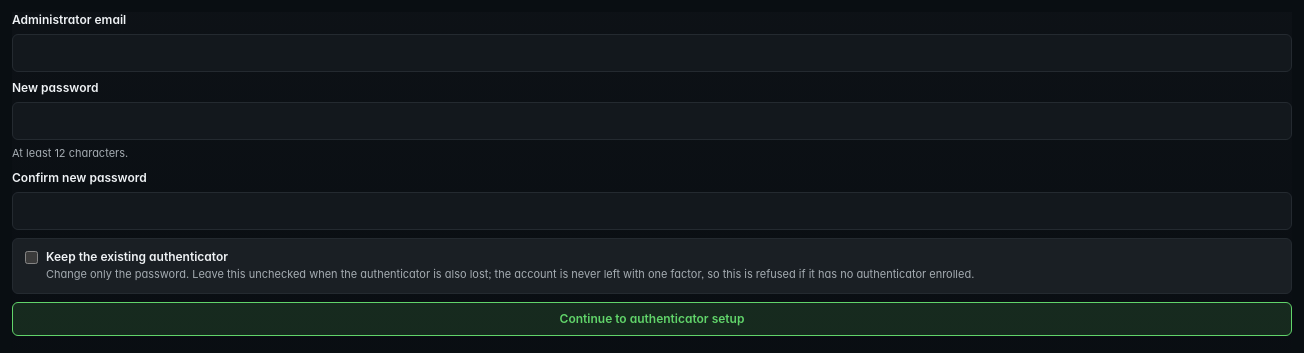
it: AdministratorPasswordReset › sends preserve_totp and never generates a secret when keeping the authenticator
Step 1. Type "ops@example.com" into the field labelled "Administrator email" → (652, 53), box x1=12 y1=34 x2=1292 y2=72
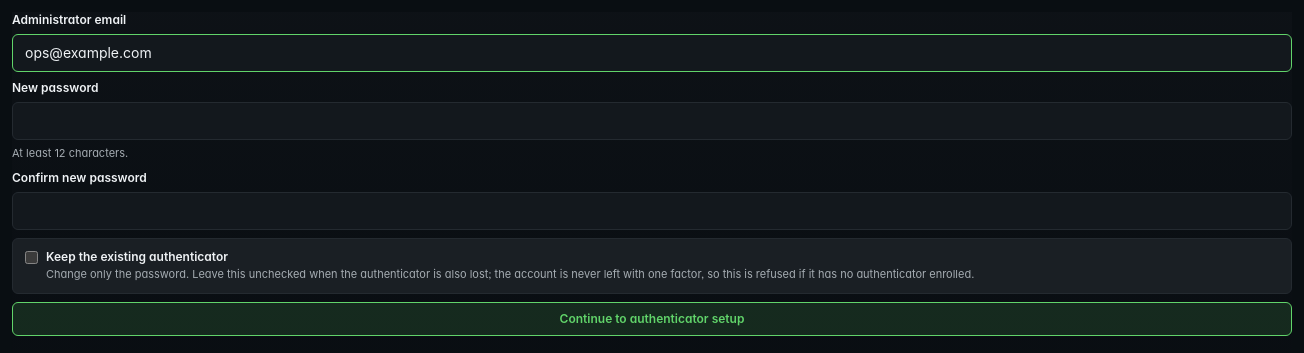
Step 2. Type "correct horse battery staple" into the password field labelled "New password At least 12 characters." → (652, 121), box x1=12 y1=102 x2=1292 y2=140
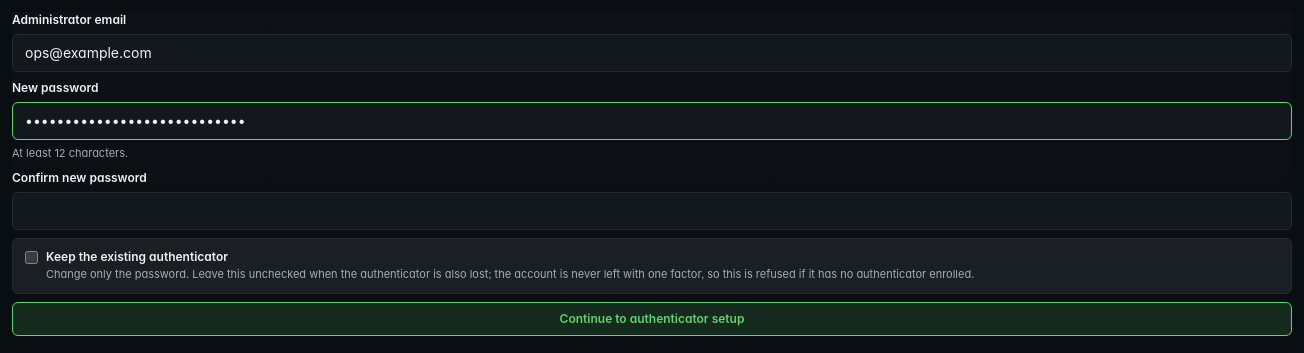
Step 3. Type "correct horse battery staple" into the password field labelled "Confirm new password" → (652, 211), box x1=12 y1=192 x2=1292 y2=230
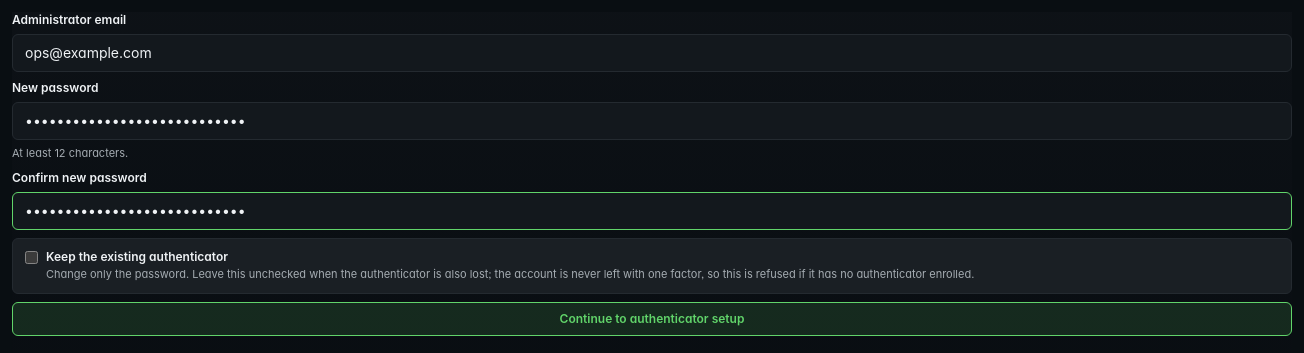
Step 4. Click the checkbox labelled "Keep the existing authenticator" → (32, 257), box x1=25 y1=251 x2=38 y2=264
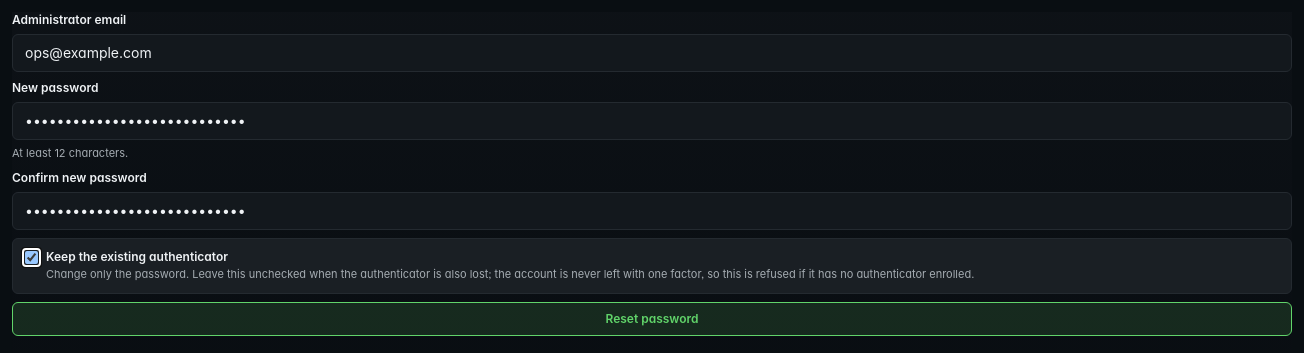
Step 5. Click the button "Reset password" → (652, 319), box x1=12 y1=302 x2=1292 y2=336
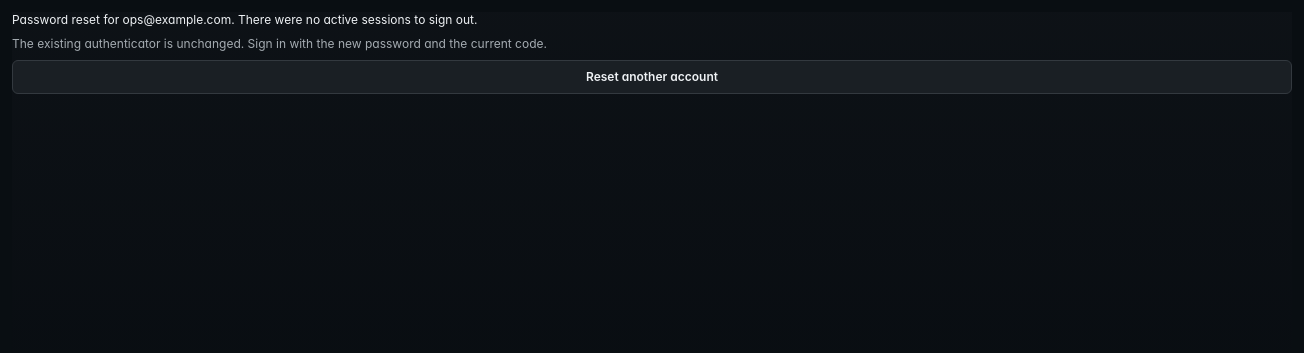
Expected: the text "Password reset for ops@example.com. There were no active sessions to sign out." is shown, x1=12 y1=12 x2=478 y2=27
Expected: the text "existing authenticator is unchanged" is shown, x1=12 y1=36 x2=547 y2=51
